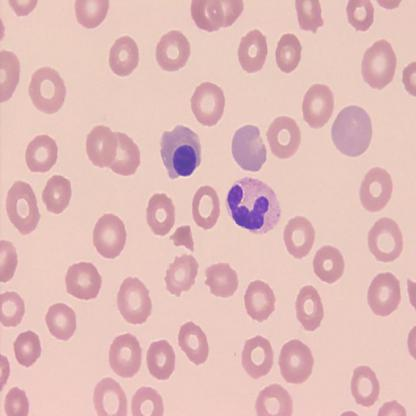NRC: (158, 122, 204, 180)
